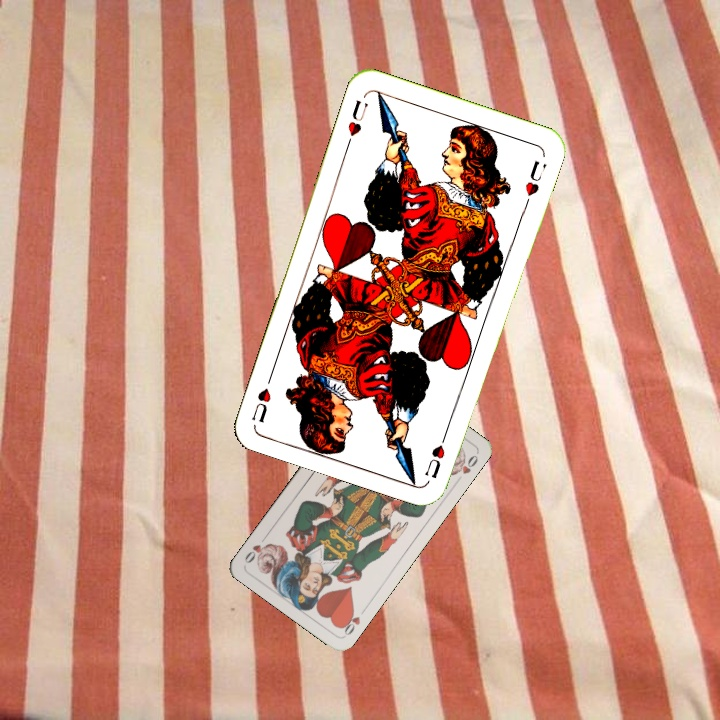HO: (336, 603, 369, 638)
HU: (421, 425, 451, 481), (342, 96, 371, 149)
